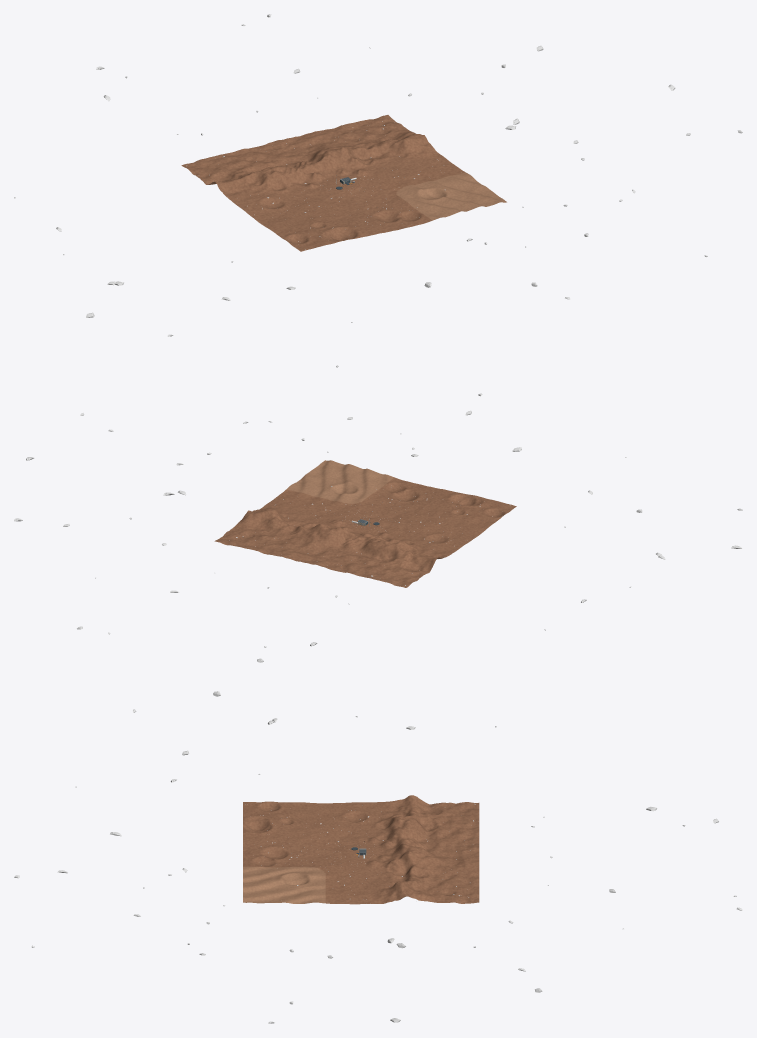
Rendered from MarsEnvironment.fbx.
3 views of the same model, one above another, from view 1: azimuth 30°, elevation 25°; view 2: azimuth 150°, elevation 25°; view 3: azimuth 270°, elevation 25° (orthographic). The views are drawn at different scales.
Parts seen in each view (by area): view 1: Mars_Terrain; view 2: Mars_Terrain; view 3: Mars_Terrain.
Part boxes in pixels (x1=…): Mars_Terrain: x1=181, y1=115, x2=506, y2=251; Mars_Terrain: x1=214, y1=460, x2=516, y2=587; Mars_Terrain: x1=243, y1=795, x2=479, y2=904.
Size of what is drawn, in the model's own units: 132322 by 3227 by 123333.
Materials: 35 (1 with a texture image).
